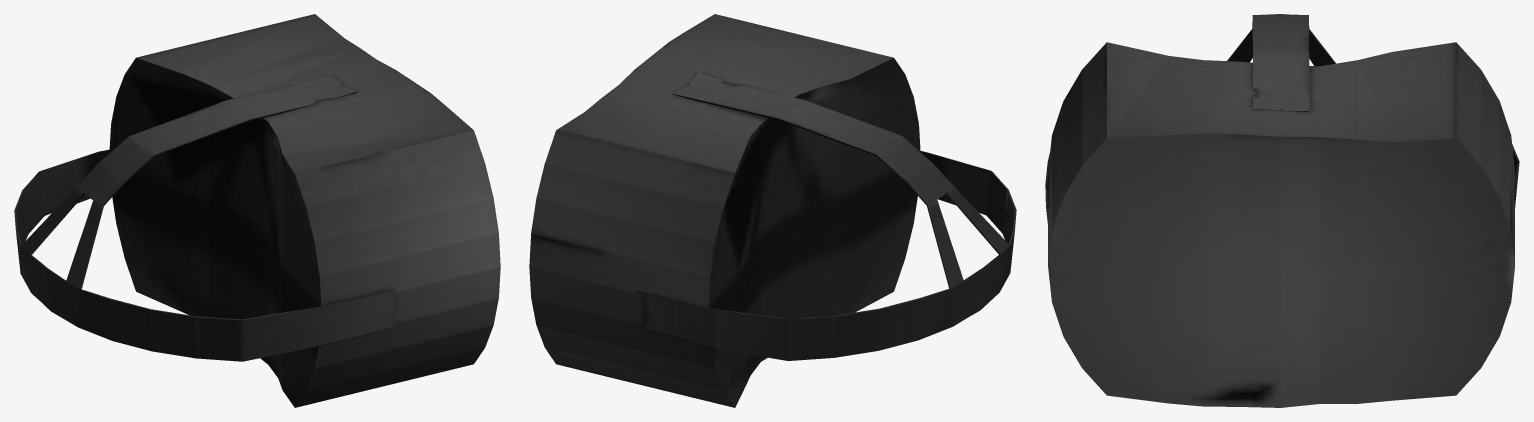
Rendered from Headset.dae.
3 views of the same model, side by side, from view 1: azimuth 30°, elevation 25°; view 2: azimuth 150°, elevation 25°; view 3: azimuth 270°, elevation 25° (orthographic). The views are drawn at different scales.
Visible parts, largest first — view 1: Cylinder; view 2: Cylinder; view 3: Cylinder.
Boxes of the visible parts, x1,y1,x2,y2 form: Cylinder: (14, 14, 500, 407); Cylinder: (529, 14, 1016, 407); Cylinder: (1045, 14, 1519, 407).
Size of the model in its own units: 0.2808 by 0.2997 by 0.1908.
Materials: 1 (1 with a texture image).
